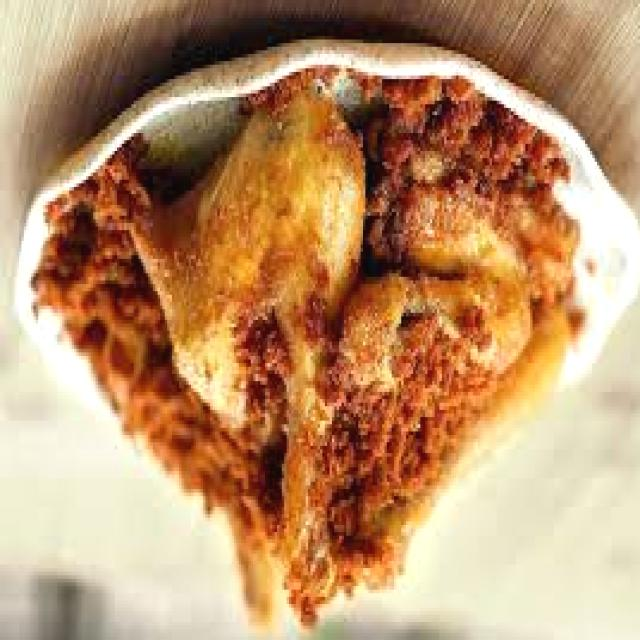ayam_goreng: (114, 119, 568, 640), (144, 113, 369, 576), (343, 181, 554, 459)
